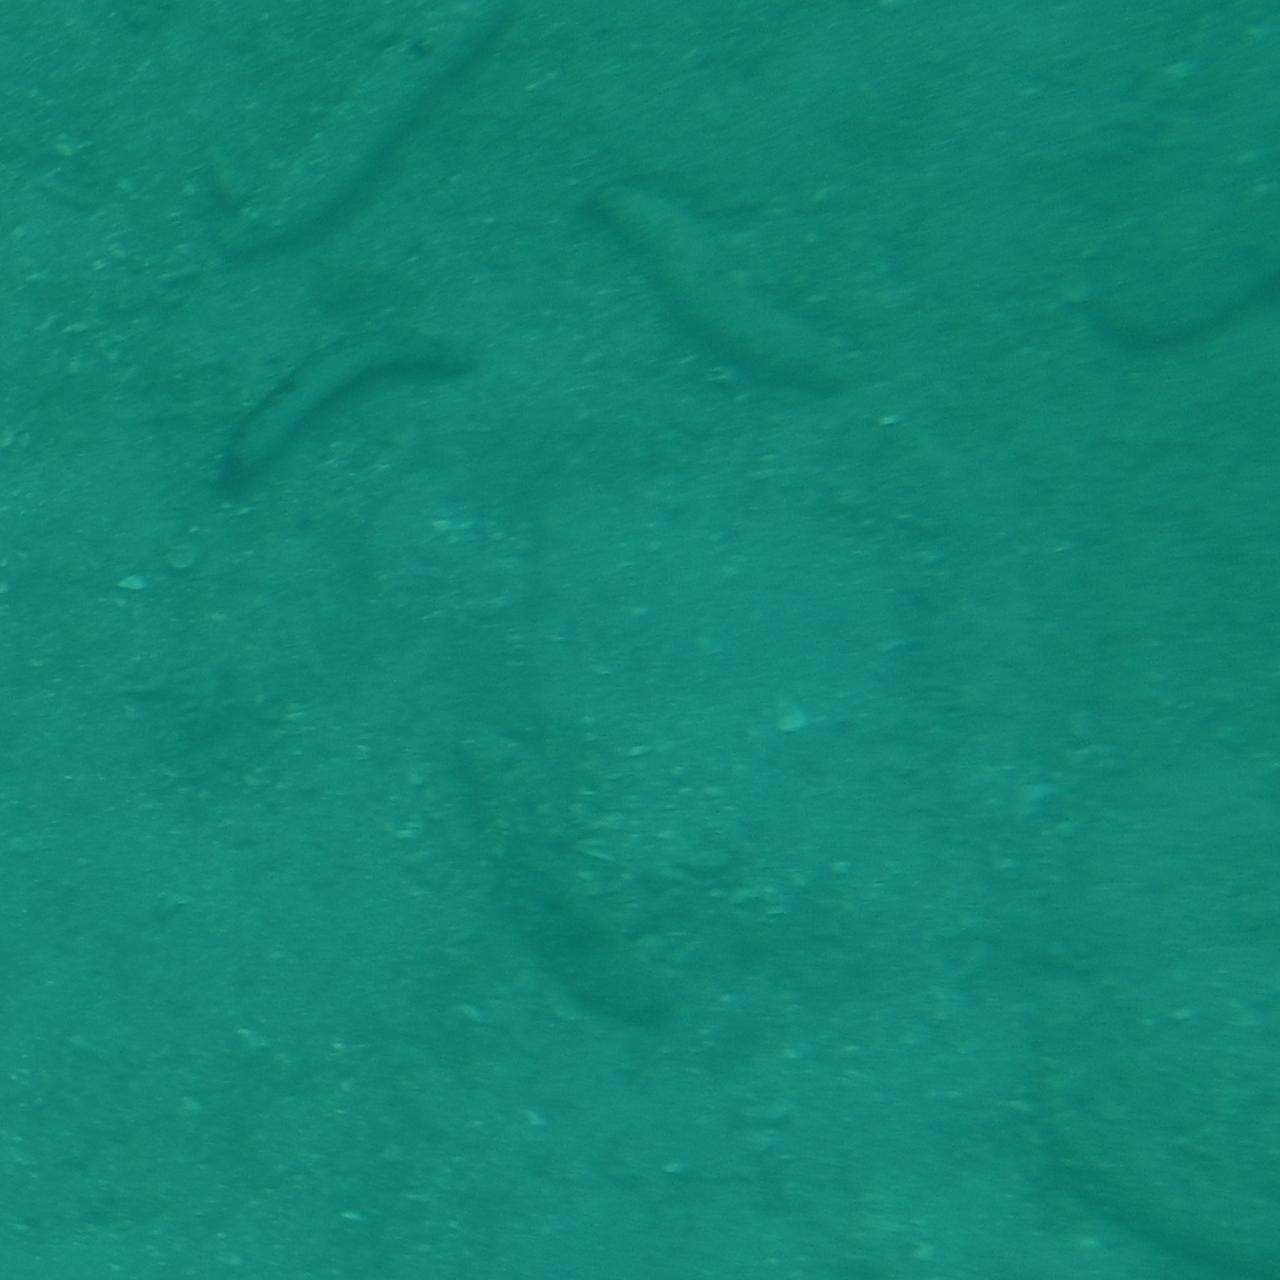Holothuria tubulosa: (209, 0, 535, 279), (588, 177, 904, 403), (1015, 1035, 1279, 1280), (467, 754, 693, 1033), (200, 325, 497, 513), (1081, 211, 1279, 349)
